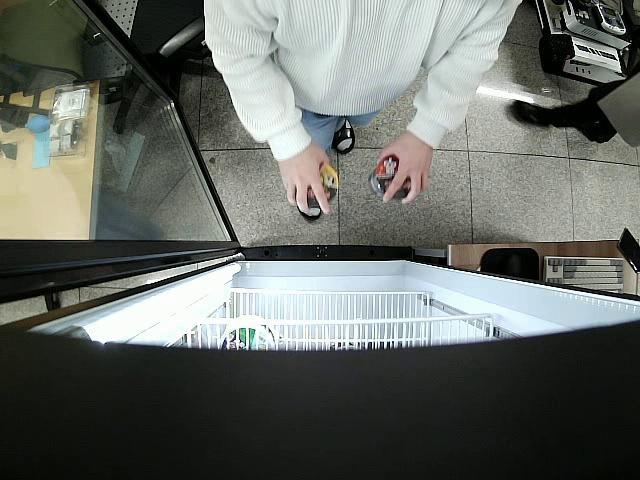08_buldak_S: (368, 156, 412, 200), (308, 164, 338, 210)
